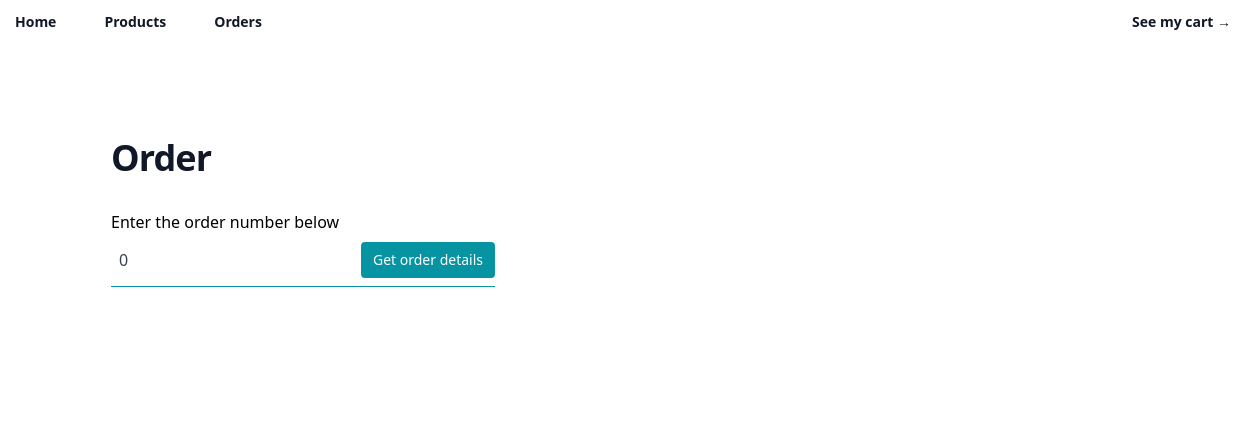
Scenario: Orders page › should show an error message if order number doesn't exist
Replace the text in the number field named "Order" with "999" at (230, 260), box [111, 246, 349, 274]
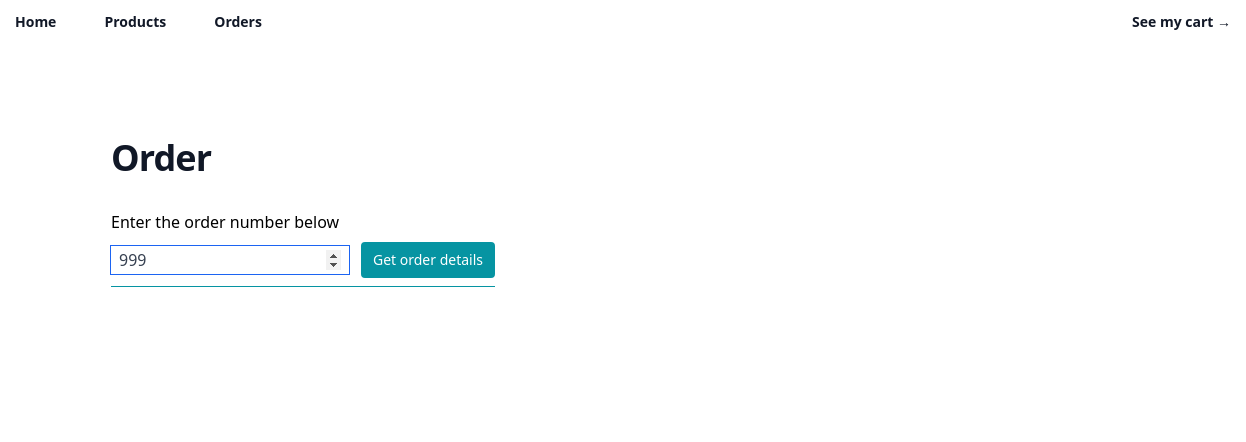
Click the button with test id "order-details-button" at (428, 260), box [361, 242, 495, 278]
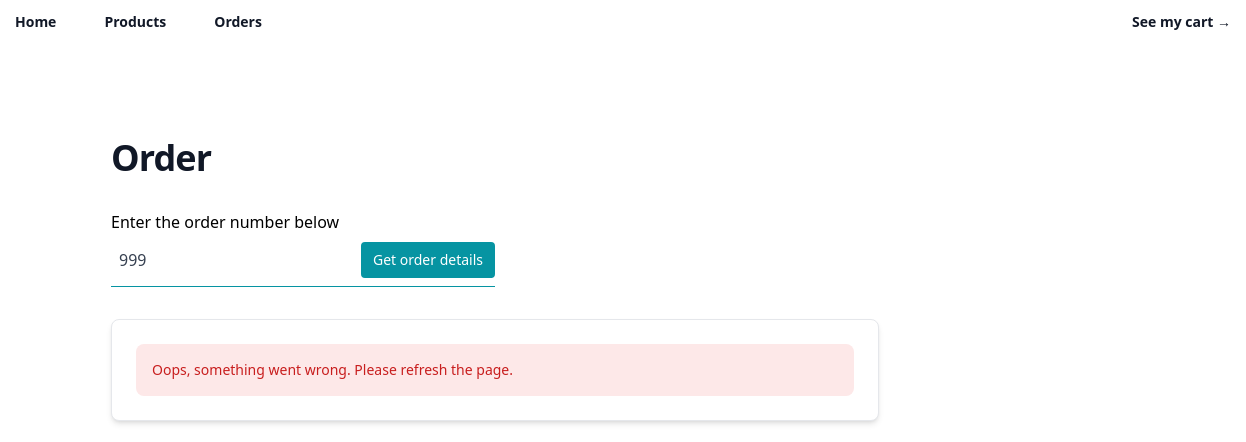
Expected: the text "Oops, something went wrong. Please refresh the page." is shown, [152, 360, 513, 380]
